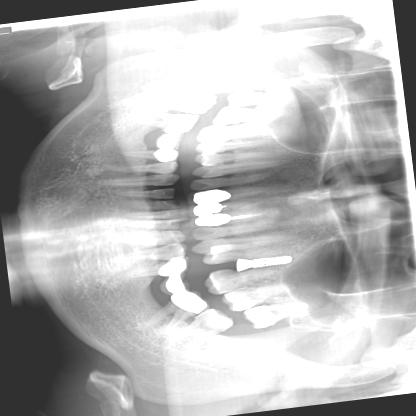ITI: (233, 249, 295, 272)
